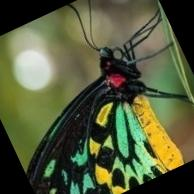butterfly: (26, 47, 189, 194)
